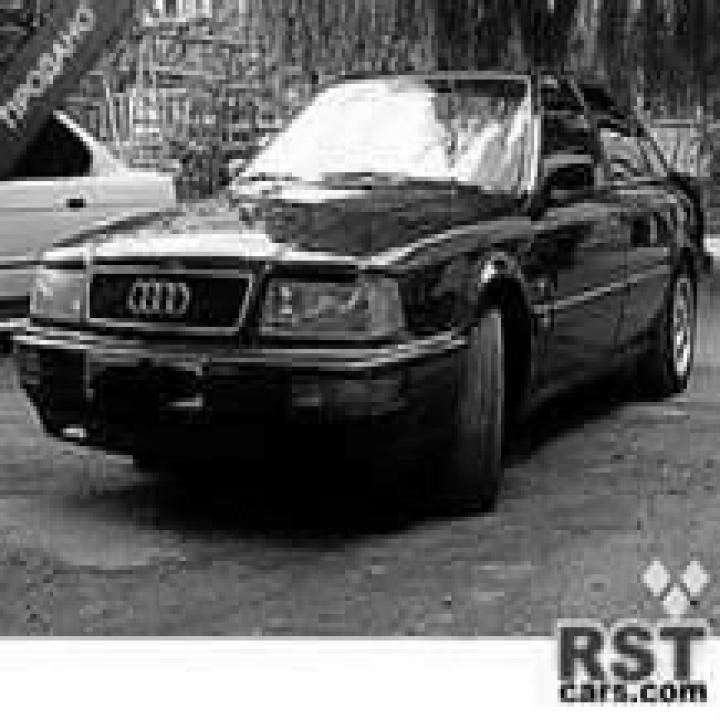car: (10, 66, 707, 512), (0, 88, 176, 349)
